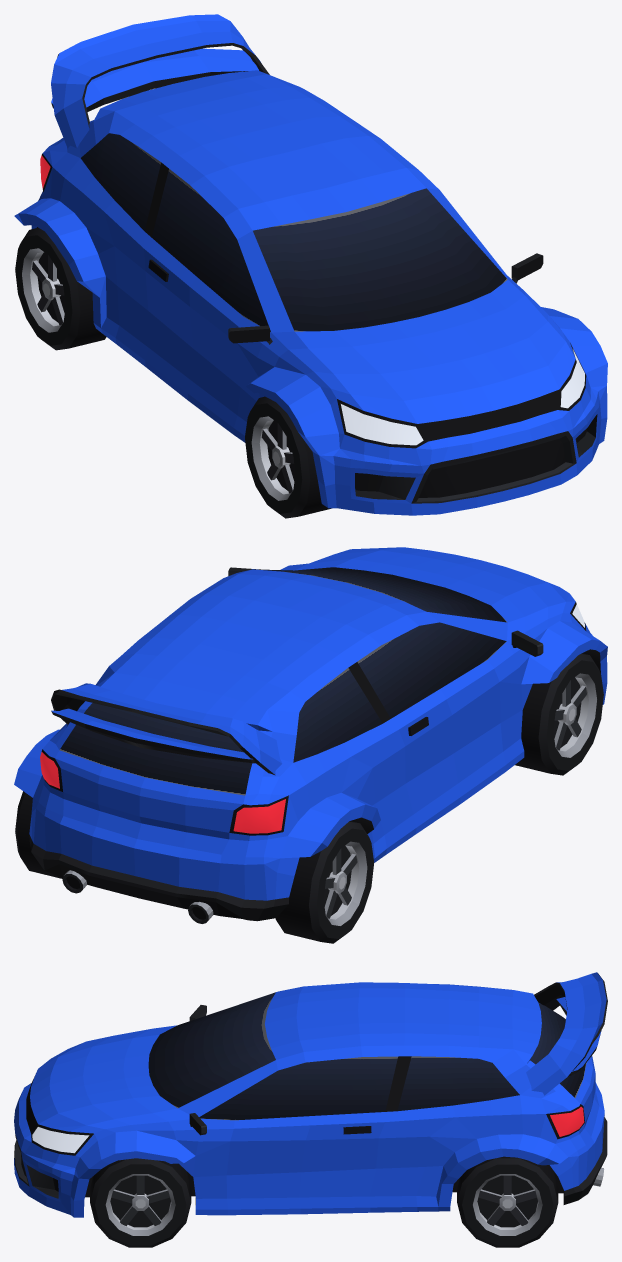
Rendered from everest.glb.
3 views of the same model, one above another, from view 1: azimuth 30°, elevation 25°; view 2: azimuth 150°, elevation 25°; view 3: azimuth 270°, elevation 25° (orthographic). The views are drawn at different scales.
Visible parts, largest first — view 1: Body_Texture_0, RRW, FRW, Body_Lights_0; view 2: Body_Texture_0, RRW, FRW, Body_Lights_0, RLW; view 3: Body_Texture_0, RLW, FLW, Body_Lights_0.
Boxes of the visible parts, left/top/right/bottom form: Body_Texture_0: left=14, top=14, right=607, bottom=515; RRW: left=15, top=227, right=106, bottom=350; FRW: left=245, top=396, right=331, bottom=518; Body_Lights_0: left=40, top=155, right=584, bottom=445; Body_Texture_0: left=14, top=547, right=607, bottom=923; RRW: left=275, top=821, right=374, bottom=943; FRW: left=515, top=653, right=603, bottom=775; Body_Lights_0: left=40, top=604, right=584, bottom=833; RLW: left=15, top=791, right=62, bottom=878; Body_Texture_0: left=14, top=972, right=607, bottom=1217; RLW: left=457, top=1156, right=558, bottom=1247; FLW: left=90, top=1158, right=191, bottom=1247; Body_Lights_0: left=32, top=1106, right=584, bottom=1153.
Size of the model in its own units: 1.84 by 1.34 by 3.78.
3 materials, 2 textured.
